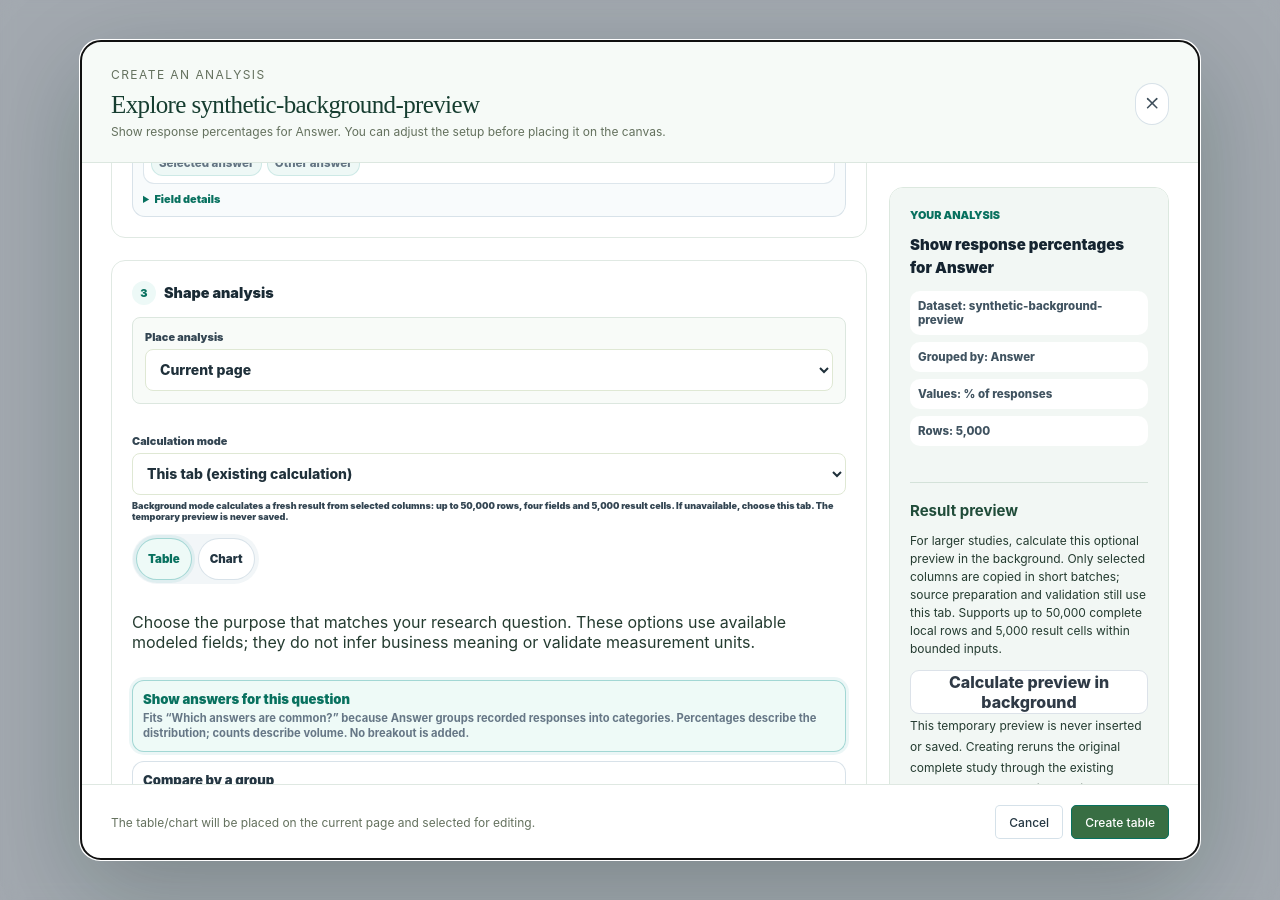
Test case: cancels on a persistent focused button, keeps setup and ignores late results
The image size is (1280, 900).
(page scrolled)
Select "Background worker with cancel" in the 2nd dropdown at coordinates (489, 474), box [132, 453, 846, 495]
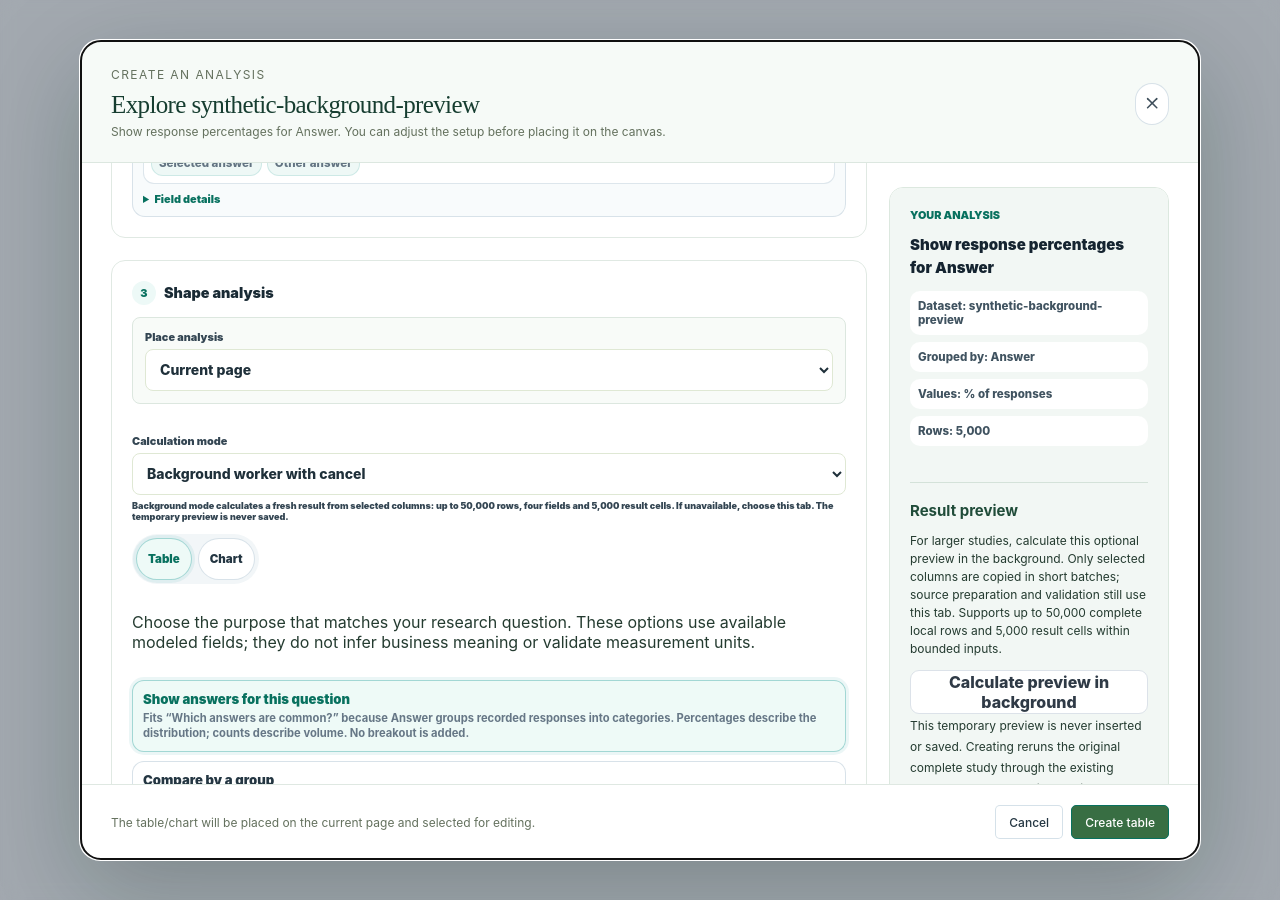
Click the button "Create table" at coordinates (1120, 822), box [1071, 805, 1169, 839]
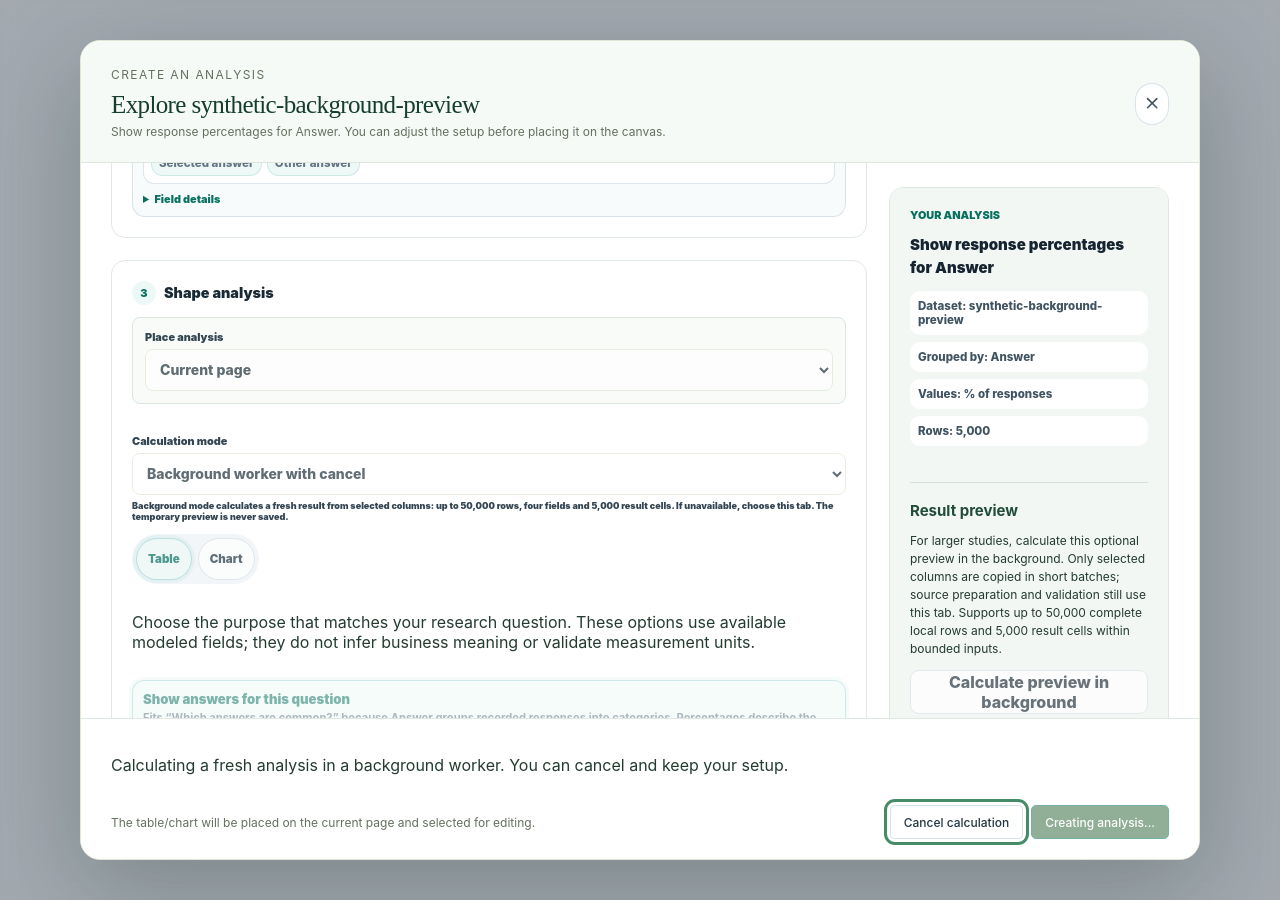
Click the button "Cancel calculation" at coordinates (956, 822), box [890, 805, 1023, 839]
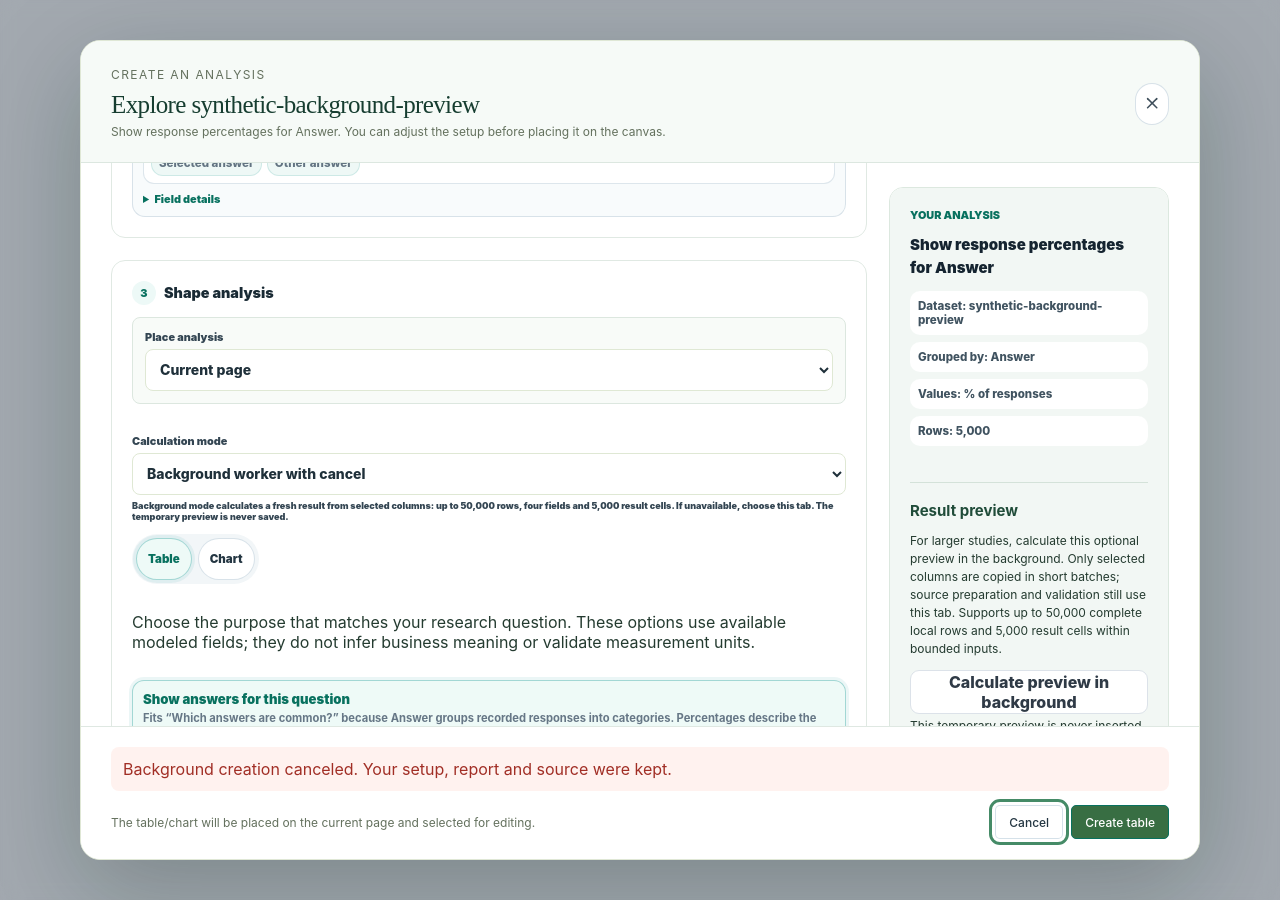
Expected: the button "Cancel" is shown, [995, 805, 1063, 839]
Expected: the element named "Analysis setup and preview" is enabled, [81, 163, 1199, 726]
Expected: the text "Background creation canceled" is shown, [123, 759, 672, 779]
